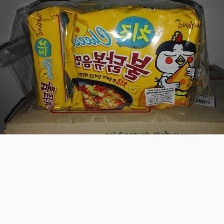snack: (20, 1, 206, 118)
